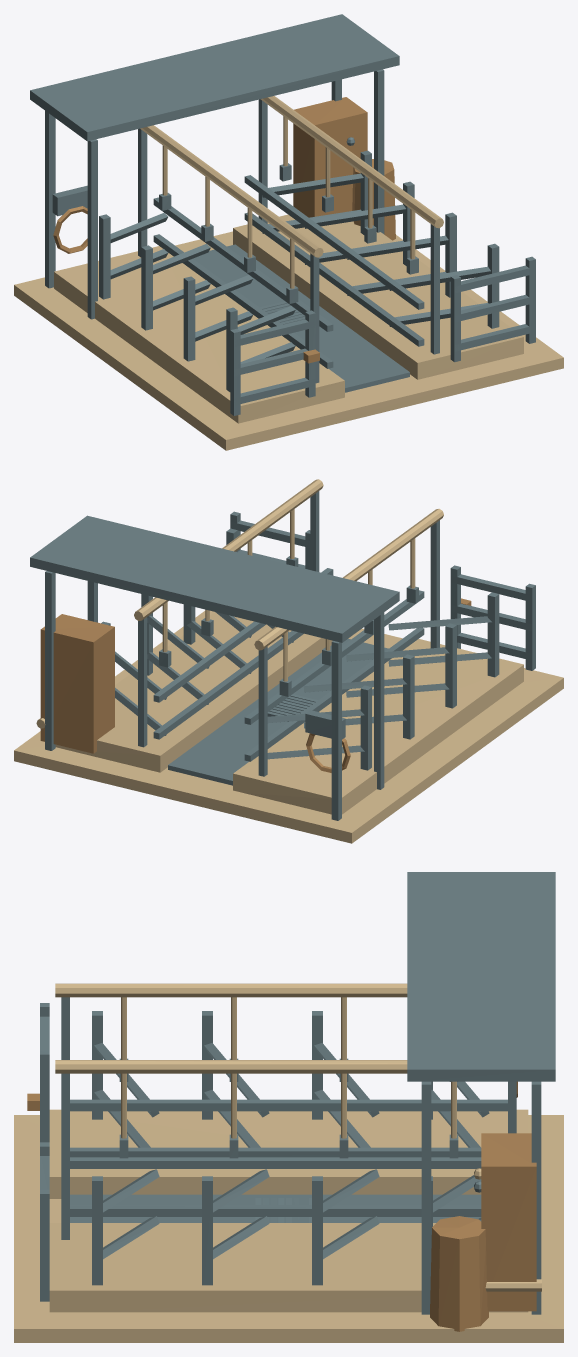
File: Automated-Milking-Parlor.glb
3 renders of one model, top to bottom at view 1: azimuth 30°, elevation 25°; view 2: azimuth 150°, elevation 25°; view 3: azimuth 270°, elevation 25°, orthographic. The views are drawn at different scales.
Parts seen in each view (by area): view 1: automated-milking-parlor-static-automated-milking-parlor-gal, automated-milking-parlor-static-automated-milking-parlor-pal, automated-milking-parlor-static-automated-milking-parlor-dar, automated-milking-parlor-static-automated-milking-parlor-mut, automated-milking-parlor-static-automated-milking-parlor-cre; view 2: automated-milking-parlor-static-automated-milking-parlor-pal, automated-milking-parlor-static-automated-milking-parlor-gal, automated-milking-parlor-static-automated-milking-parlor-dar, automated-milking-parlor-static-automated-milking-parlor-mut, automated-milking-parlor-static-automated-milking-parlor-cre; view 3: automated-milking-parlor-static-automated-milking-parlor-pal, automated-milking-parlor-static-automated-milking-parlor-gal, automated-milking-parlor-static-automated-milking-parlor-mut, automated-milking-parlor-static-automated-milking-parlor-cre, automated-milking-parlor-static-automated-milking-parlor-dar.
Boxes of the visible parts, x1=… form: automated-milking-parlor-static-automated-milking-parlor-gal: x1=30, y1=14, x2=499, y2=391; automated-milking-parlor-static-automated-milking-parlor-pal: x1=14, y1=214, x2=563, y2=450; automated-milking-parlor-static-automated-milking-parlor-dar: x1=45, y1=69, x2=535, y2=415; automated-milking-parlor-static-automated-milking-parlor-mut: x1=53, y1=97, x2=395, y2=363; automated-milking-parlor-static-automated-milking-parlor-cre: x1=140, y1=96, x2=443, y2=288; automated-milking-parlor-static-automated-milking-parlor-pal: x1=14, y1=610, x2=563, y2=843; automated-milking-parlor-static-automated-milking-parlor-gal: x1=30, y1=491, x2=499, y2=776; automated-milking-parlor-static-automated-milking-parlor-dar: x1=45, y1=511, x2=535, y2=820; automated-milking-parlor-static-automated-milking-parlor-mut: x1=40, y1=598, x2=471, y2=772; automated-milking-parlor-static-automated-milking-parlor-cre: x1=36, y1=479, x2=443, y2=728; automated-milking-parlor-static-automated-milking-parlor-pal: x1=14, y1=1109, x2=563, y2=1342; automated-milking-parlor-static-automated-milking-parlor-gal: x1=61, y1=872, x2=555, y2=1285; automated-milking-parlor-static-automated-milking-parlor-mut: x1=27, y1=1081, x2=536, y2=1331; automated-milking-parlor-static-automated-milking-parlor-cre: x1=55, y1=983, x2=541, y2=1291; automated-milking-parlor-static-automated-milking-parlor-dar: x1=40, y1=1003, x2=541, y2=1314.
Bounding box in the file's own units: 4.62 × 2.66 × 5.
